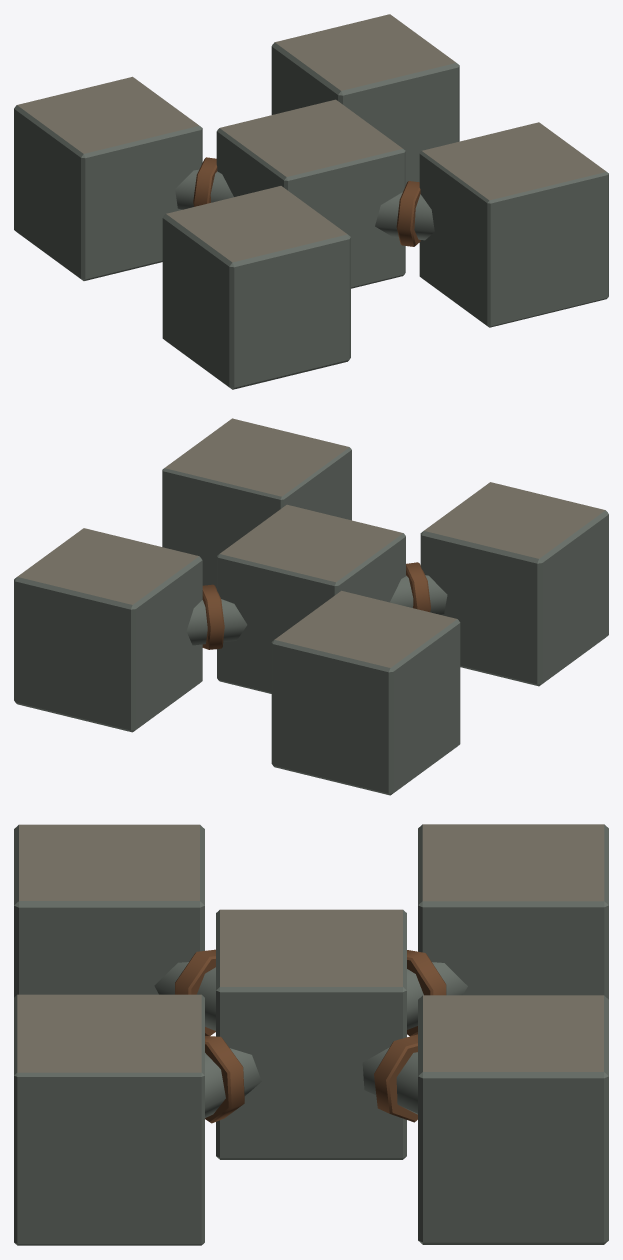
The model's file is R4C_STRUT_CROSS_LOD1.fbx.
3 renders of one model, top to bottom at view 1: azimuth 30°, elevation 25°; view 2: azimuth 150°, elevation 25°; view 3: azimuth 270°, elevation 25°, orthographic. The views are drawn at different scales.
Parts seen in each view (by area): view 1: R4C_STRUT_CROSS_LOD1; view 2: R4C_STRUT_CROSS_LOD1; view 3: R4C_STRUT_CROSS_LOD1.
Boxes of the visible parts, x1,y1,x2,y2 form: R4C_STRUT_CROSS_LOD1: [14, 14, 608, 389]; R4C_STRUT_CROSS_LOD1: [14, 418, 608, 795]; R4C_STRUT_CROSS_LOD1: [14, 824, 608, 1245].
Bounding box in the file's own units: 1.62 × 0.52 × 1.62.
